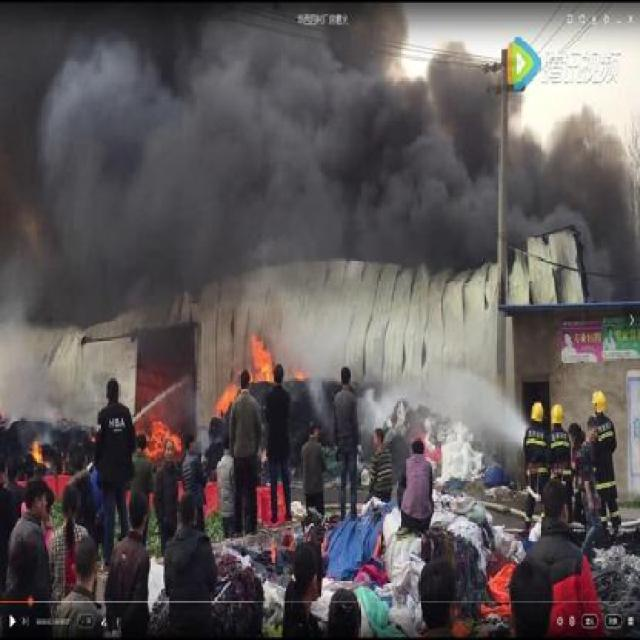Fire: (245, 330, 309, 386), (141, 411, 183, 466), (216, 366, 240, 419), (26, 434, 48, 476)
Smoke: (46, 14, 632, 281)
